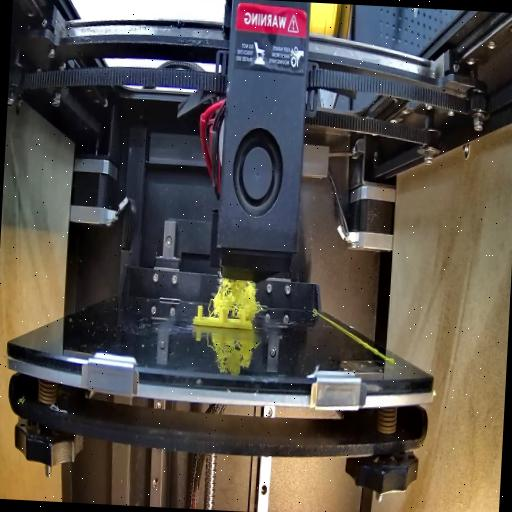spaghetti: (208, 268, 264, 318)
